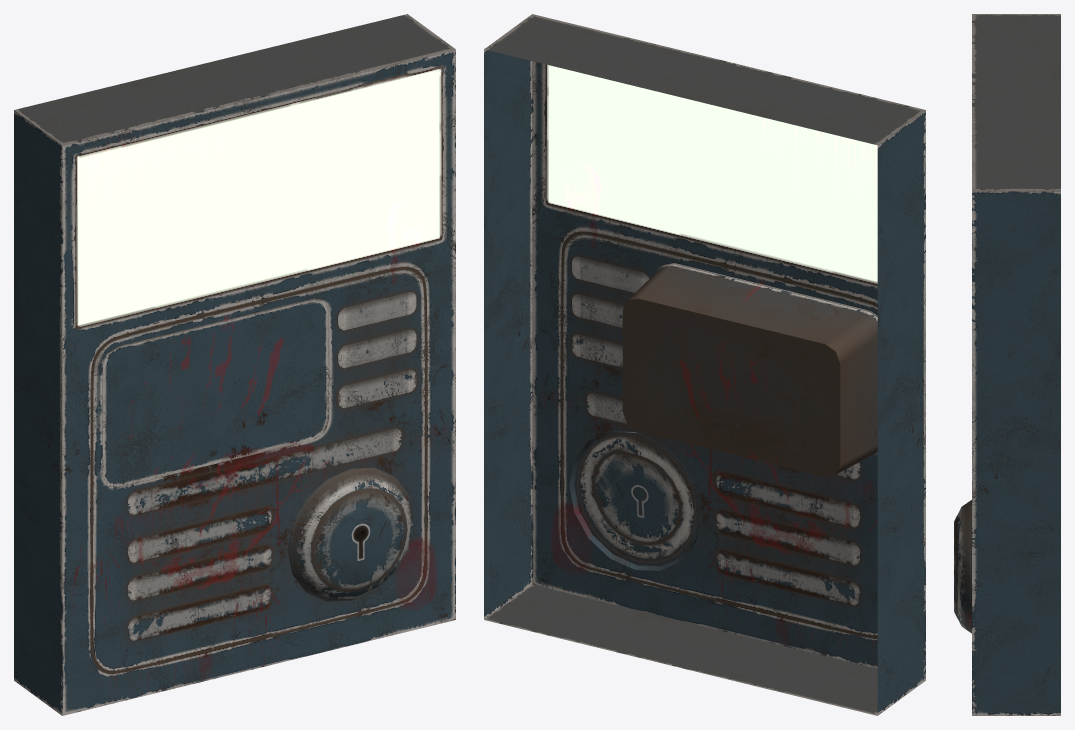
File: SM_PURE_BLOOD.fbx
3 views of the same model, side by side, from view 1: azimuth 30°, elevation 25°; view 2: azimuth 150°, elevation 25°; view 3: azimuth 270°, elevation 25° (orthographic). The views are drawn at different scales.
Visible parts, largest first — view 1: SM_PURE_BLOOD, PURE_BLOOD_Open; view 2: SM_PURE_BLOOD; view 3: SM_PURE_BLOOD.
Part boxes in pixels (x1=…): SM_PURE_BLOOD: x1=14, y1=14, x2=455, y2=715; PURE_BLOOD_Open: x1=102, y1=298, x2=328, y2=487; SM_PURE_BLOOD: x1=484, y1=14, x2=925, y2=715; SM_PURE_BLOOD: x1=954, y1=14, x2=1060, y2=715.
Size of the model in its own units: 0.3105 by 0.4301 by 0.0793.
